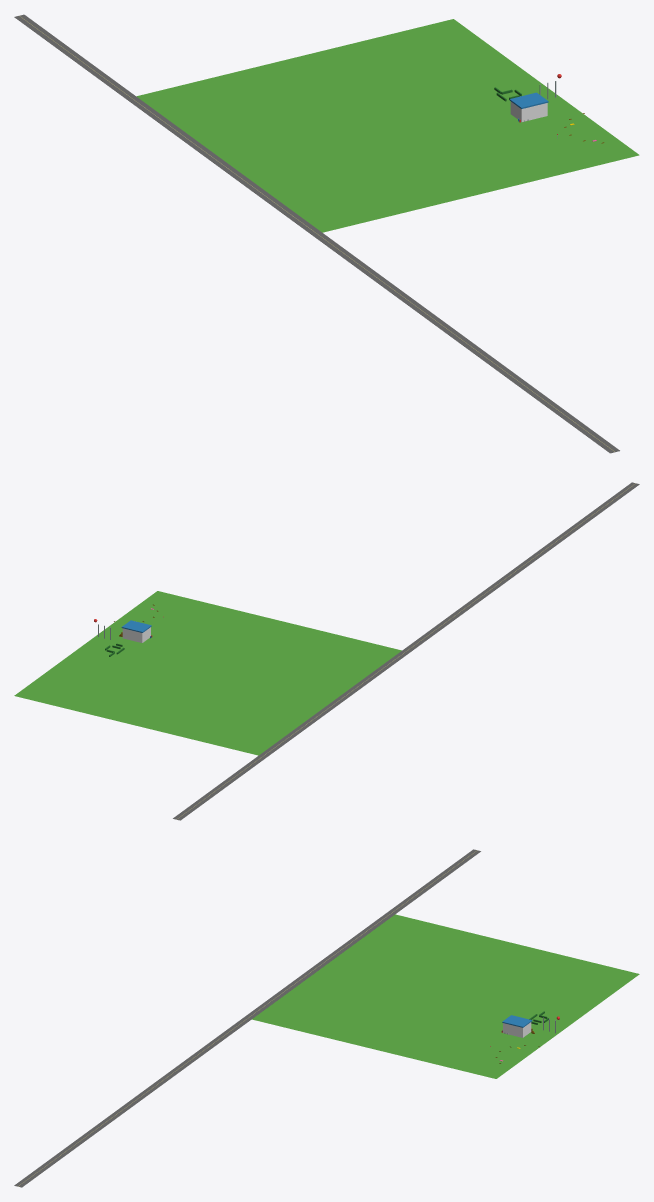
Rendered from sector_r1_c1.glb.
3 views of the same model, one above another, from view 1: azimuth 30°, elevation 25°; view 2: azimuth 150°, elevation 25°; view 3: azimuth 330°, elevation 25° (orthographic). The views are drawn at different scales.
Visible parts, largest first — view 1: GROUND_r1_c1, ROAD_District_NS_1; view 2: GROUND_r1_c1, ROAD_District_NS_1; view 3: GROUND_r1_c1, ROAD_District_NS_1.
Part boxes in pixels (x1,y1,x2,y2): GROUND_r1_c1: (136,19,639,232); ROAD_District_NS_1: (14,14,619,453); GROUND_r1_c1: (14,591,401,755); ROAD_District_NS_1: (173,482,639,820); GROUND_r1_c1: (252,914,639,1078); ROAD_District_NS_1: (14,849,480,1187).
Size of the model in its own units: 255 by 16.5 by 800.
